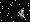person: (15, 8, 24, 21)
